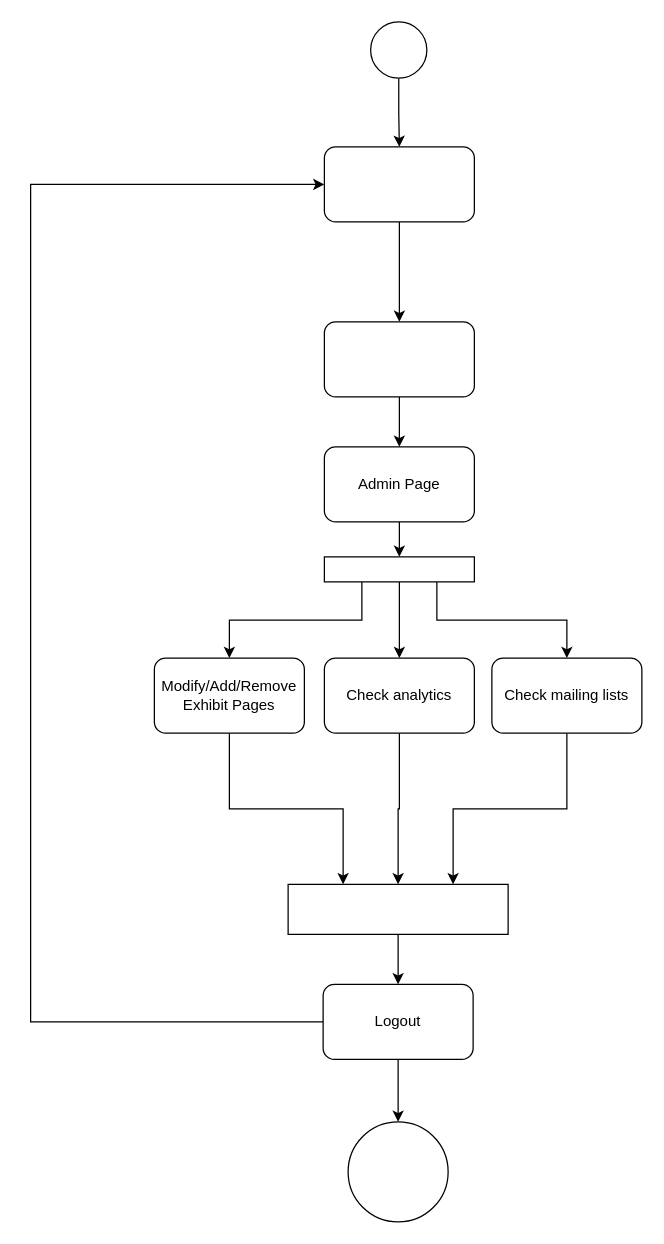
The diagram is 664 pixels wide and 1244 high, and some of its shapes have lost their labels. The shapes that lost their labels are listed below. From the top down, each one's centre as x and y in pixels, then its label:
At pixel 398 184: "Homepage".
At pixel 398 359: "Admin Login".
